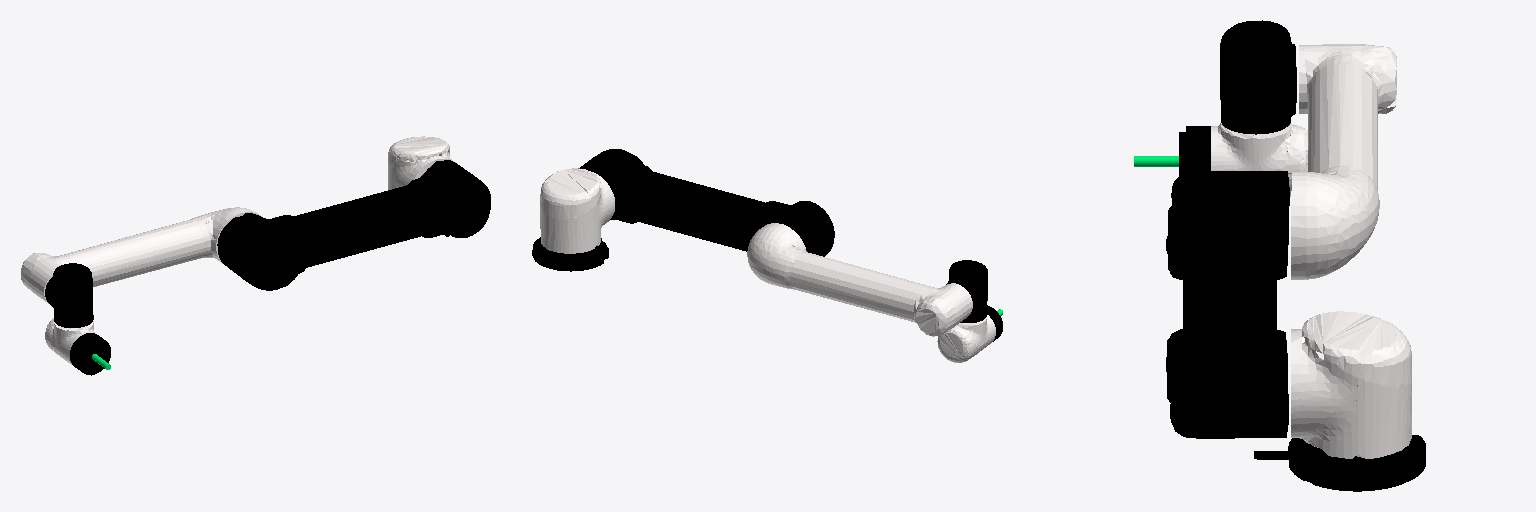
robot.urdf — ur5_with_torch:
<?xml version="1.0" ?>

<robot name="ur5_with_torch" xmlns:xacro="http://ros.org/wiki/xacro">

  <link name="base_link">
    <visual>
      <geometry>
        <mesh filename="../meshes/visual/base.obj"/>
      </geometry>
      <material name="Black">
        <color rgba="0.0 0.0 0 1.0"/>
      </material>
    </visual> 
    <collision>
      <geometry>
        <mesh filename="../meshes/collision/base.stl"/>
      </geometry>
    </collision>
    <inertial>
      <mass value="0.0"/>
      <origin rpy="0 0 0" xyz="0.0 0.0 0.0"/>
      <inertia ixx="0.00443333156" ixy="0.0" ixz="0.0" iyy="0.00443333156" iyz="0.0" izz="0.0072"/>
    </inertial>
  </link>

  <joint name="shoulder_pan_joint" type="revolute">
    <parent link="base_link"/>
    <child link="shoulder_link"/>
    <origin rpy="0.0 0.0 3.14" xyz="0.0 0.0 0.089159"/>
    <axis xyz="0 0 1"/>
    <limit effort="300.0" lower="-3.14159265359" upper="3.14159265359" velocity="10"/>
    <dynamics damping="0.5" friction="0.0"/>
  </joint>
  <link name="shoulder_link">
    <visual>
      <geometry>
        <mesh filename="../meshes/visual/shoulder.obj"/>
      </geometry>
      <material name="Snow">
        <color rgba="1.0 0.98039 0.98039 1.0"/>
      </material>
    </visual>
    <collision>
      <geometry>
        <mesh filename="../meshes/collision/shoulder.stl"/>
      </geometry>
    </collision>
    <inertial>
      <mass value="3.7"/>
      <origin rpy="0 0 0" xyz="0.0 0.0 0.5"/>
      <inertia ixx="0.010267495893" ixy="0.0" ixz="0.0" iyy="0.010267495893" iyz="0.0" izz="0.00666"/>
    </inertial>
  </link>
  <joint name="shoulder_lift_joint" type="revolute">
    <parent link="shoulder_link"/>
    <child link="upper_arm_link"/>
    <origin rpy="0.0 1.6 0.0" xyz="0.0 0.13585 0.0"/>
    <axis xyz="0 1 0"/>
    <limit effort="300.0" lower="-3.14159265359" upper="3.14159265359" velocity="10"/>
    <dynamics damping="0.5" friction="0.0"/>
  </joint>
  <link name="upper_arm_link">
    <visual>
      <geometry>
        <mesh filename="../meshes/visual/upperarm.obj"/>
      </geometry>
      <material name="Black">
        <color rgba="0.0 0.0 0 1.0"/>
      </material>
    </visual>
    <collision>
      <geometry>
        <mesh filename="../meshes/collision/upperarm.stl"/>
      </geometry>
    </collision>
    <inertial>
      <mass value="8.393"/>
      <origin rpy="0 0 0" xyz="0.0 0.0 0.28"/>
      <inertia ixx="0.22689067591" ixy="0.0" ixz="0.0" iyy="0.22689067591" iyz="0.0" izz="0.0151074"/>
    </inertial>
  </link>
  <joint name="elbow_joint" type="revolute">
    <parent link="upper_arm_link"/>
    <child link="forearm_link"/>
    <origin rpy="0.0 0.0 0.0" xyz="0.0 -0.1197 0.425"/>
    <axis xyz="0 1 0"/>
    <limit effort="300.0" lower="-3.14159265359" upper="3.14159265359" velocity="10"/>
    <dynamics damping="0.5" friction="0.0"/>
  </joint>
  <link name="forearm_link">
    <visual>
      <geometry>
        <mesh filename="../meshes/visual/forearm.obj"/>
      </geometry>
      <material name="Snow">
        <color rgba="1.0 0.98039 0.98039 1.0"/>
      </material>
    </visual>
    <collision>
      <geometry>
        <mesh filename="../meshes/collision/forearm.stl"/>
      </geometry>
    </collision>
    <inertial>
      <mass value="2.275"/>
      <origin rpy="0 0 0" xyz="0.0 0.0 0.25"/>
      <inertia ixx="0.049443313556" ixy="0.0" ixz="0.0" iyy="0.049443313556" iyz="0.0" izz="0.004095"/>
    </inertial>
  </link>
  <joint name="wrist_1_joint" type="revolute">
    <parent link="forearm_link"/>
    <child link="wrist_1_link"/>
    <origin rpy="0.0 1.57079632679 0.0" xyz="0.0 0.0 0.39225"/>
    <axis xyz="0 1 0"/>
    <limit effort="300.0" lower="-3.14159265359" upper="3.14159265359" velocity="10"/>
    <dynamics damping="0.5" friction="0.0"/>
  </joint>
  <link name="wrist_1_link">
    <visual>

      <geometry>
        <mesh filename="../meshes/visual/wrist1.obj"/>
      </geometry>
      <material name="Black">
        <color rgba="0.0 0.0 0 1.0"/>
      </material>
    </visual>
    <collision>
      <geometry>
        <mesh filename="../meshes/collision/wrist1.stl"/>
      </geometry>
    </collision>
    <inertial>
      <mass value="1.219"/>
      <origin rpy="0 0 0" xyz="0.0 0.0 0.0"/>
      <inertia ixx="0.111172755531" ixy="0.0" ixz="0.0" iyy="0.111172755531" iyz="0.0" izz="0.21942"/>
    </inertial>
  </link>
  <joint name="wrist_2_joint" type="revolute">
    <parent link="wrist_1_link"/>
    <child link="wrist_2_link"/>
    <origin rpy="0.0 0.0 0.0" xyz="0.0 0.093 0.0"/>
    <axis xyz="0 0 1"/>
    <limit effort="300.0" lower="-3.14159265359" upper="3.14159265359" velocity="10"/>
    <dynamics damping="0.5" friction="0.0"/>
  </joint>
  <link name="wrist_2_link">
    <visual>
      <geometry>
        <mesh filename="../meshes/visual/wrist2.obj"/>
      </geometry>
      <material name="Snow">
        <color rgba="1.0 0.98039 0.98039 1.0"/>
      </material>
    </visual>
    <collision>
      <geometry>
        <mesh filename="../meshes/collision/wrist2.stl"/>
      </geometry>
    </collision>
    <inertial>
      <mass value="1.219"/>
      <origin rpy="0 0 0" xyz="0.0 0.0 0.0"/>
      <inertia ixx="0.111172755531" ixy="0.0" ixz="0.0" iyy="0.111172755531" iyz="0.0" izz="0.21942"/>
    </inertial>
  </link>
  <joint name="wrist_3_joint" type="revolute">
    <parent link="wrist_2_link"/>
    <child link="wrist_3_link"/>
    <origin rpy="0.0 0.0 0.0" xyz="0.0 0.0 0.09465"/>
    <axis xyz="0 1 0"/>
    <limit effort="300.0" lower="-3.14159265359" upper="3.14159265359" velocity="10"/>
    <dynamics damping="0.5" friction="0.0"/>
  </joint>
  <link name="wrist_3_link">
    <visual>
      <geometry>
        <mesh filename="../meshes/visual/wrist3.obj"/>
      </geometry>
      <material name="Black">
        <color rgba="0.0 0.0 0 1.0"/>
      </material>
    </visual>
    <collision>
      <geometry>
        <mesh filename="../meshes/collision/wrist3.stl"/>
      </geometry>
    </collision>
    <inertial>
      <mass value="0.1879"/>
      <origin rpy="0 0 0" xyz="0.0 0.0 0.0"/>
      <inertia ixx="0.0171364731454" ixy="0.0" ixz="0.0" iyy="0.0171364731454" iyz="0.0" izz="0.033822"/>
    </inertial>
  </link>
  
  <joint name="ee_fixed_joint" type="fixed">
    <parent link="wrist_3_link"/>
    <child link="ee_link"/>
    <origin rpy="1.57 0.0 3.14" xyz="0.0 0.13 0.0"/>
  </joint>
  
  <link name="ee_link">
    <visual>
      <geometry>
        <cylinder length="0.06" radius="0.006"/>
      </geometry>
      <origin rpy="0 0 0" xyz="0.0 0.0 -0.03"/>
      <material name="Green">
        <color rgba="0.0 0.98039 0.48039 1.0"/>
      </material>
    </visual>
    <collision>
      <geometry>
        <cylinder length="0.03" radius="0.006"/>
      </geometry>
      <origin rpy="0 0 0" xyz="0.0 0.0 -0.03"/>
    </collision>
    <inertial>
      <mass value="0.2"/>
      <origin rpy="0 0 0" xyz="0.0 0.0 0.0"/>
      <inertia ixx="0.00443333156" ixy="0.0" ixz="0.0" iyy="0.00443333156" iyz="0.0" izz="0.0072"/>
    </inertial>
  </link>


  <!-- connect arm to world -->
  <link name="world"/>
  <joint name="world_joint" type="fixed">
    <parent link="world"/>
    <child link="base_link"/>
    <origin rpy="0.0 0.0 0" xyz="0.0 0.0 0.0"/>
  </joint>
</robot>

--- Facts derived from the render (not from the file) ---
3 views of the same robot in one strip: view 1: azimuth 30°, elevation 25°; view 2: azimuth 150°, elevation 25°; view 3: azimuth 270°, elevation 25° (orthographic).
Model ur5_with_torch with 9 links and 8 joints (6 revolute, 2 fixed), rooted at world, posed all joints at 0.
Links seen in each view (by area): view 1: upper_arm_link, forearm_link, wrist_1_link, shoulder_link, wrist_3_link, wrist_2_link; view 2: upper_arm_link, forearm_link, shoulder_link, wrist_2_link, wrist_1_link, base_link; view 3: upper_arm_link, forearm_link, shoulder_link, wrist_1_link, base_link, wrist_2_link, wrist_3_link.
Link boxes in pixels (x1,y1,x2,y2): upper_arm_link: [217, 160, 490, 290]; forearm_link: [21, 207, 261, 303]; wrist_1_link: [45, 263, 93, 327]; shoulder_link: [388, 136, 455, 189]; wrist_3_link: [70, 333, 110, 375]; wrist_2_link: [45, 318, 95, 364]; upper_arm_link: [580, 149, 834, 256]; forearm_link: [747, 223, 972, 336]; shoulder_link: [540, 168, 614, 253]; wrist_2_link: [937, 315, 995, 362]; wrist_1_link: [946, 260, 987, 322]; base_link: [532, 237, 608, 271]; upper_arm_link: [1166, 171, 1289, 438]; forearm_link: [1291, 44, 1396, 279]; shoulder_link: [1291, 311, 1411, 458]; wrist_1_link: [1220, 20, 1296, 134]; base_link: [1254, 435, 1425, 491]; wrist_2_link: [1211, 123, 1307, 196]; wrist_3_link: [1179, 126, 1210, 175].
Bounding box of the posed robot: 0.9294 × 0.3112 × 0.2297 m (x, y, z).
7 mesh visuals loaded from 7 distinct referenced files (7 OBJ).